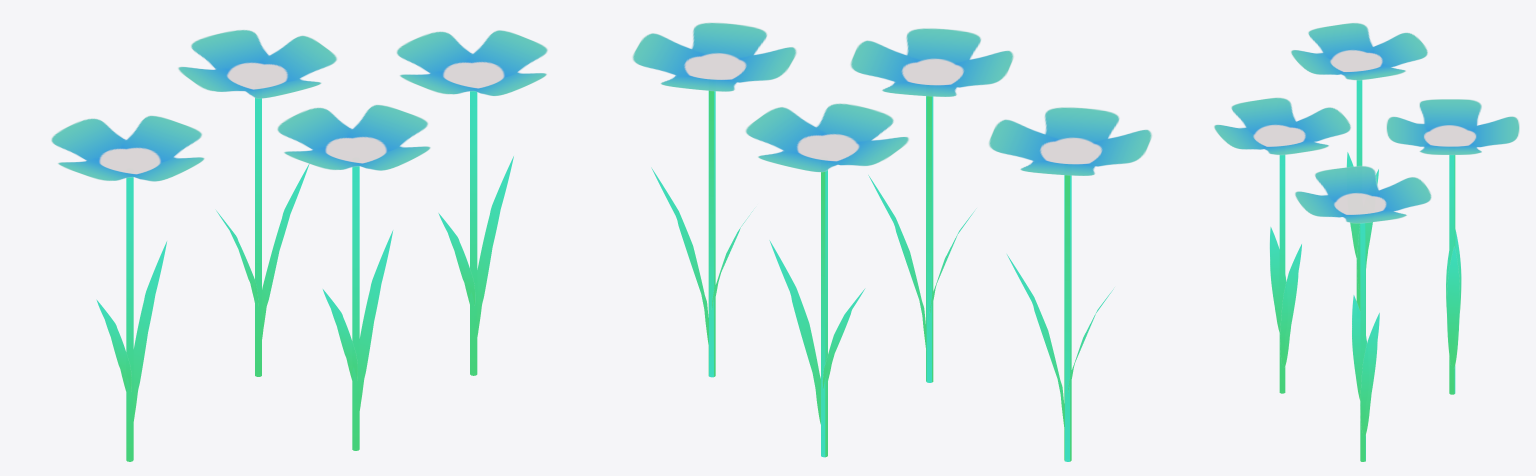
The model's file is Flowers_n03_25.glb.
The picture shows the model from 3 angles, left to right: view 1: azimuth 30°, elevation 25°; view 2: azimuth 150°, elevation 25°; view 3: azimuth 270°, elevation 25°; orthographic projection. The views are drawn at different scales.
Visible parts, largest first — view 1: polySurface671; view 2: polySurface671; view 3: polySurface671.
Boxes of the visible parts, left/top/right/bottom form: polySurface671: left=51, top=29, right=547, bottom=461; polySurface671: left=632, top=22, right=1152, bottom=461; polySurface671: left=1214, top=22, right=1519, bottom=461.
Bounding box in the file's own units: 0.4361 × 0.2478 × 0.2781.
1 material, 1 textured.
